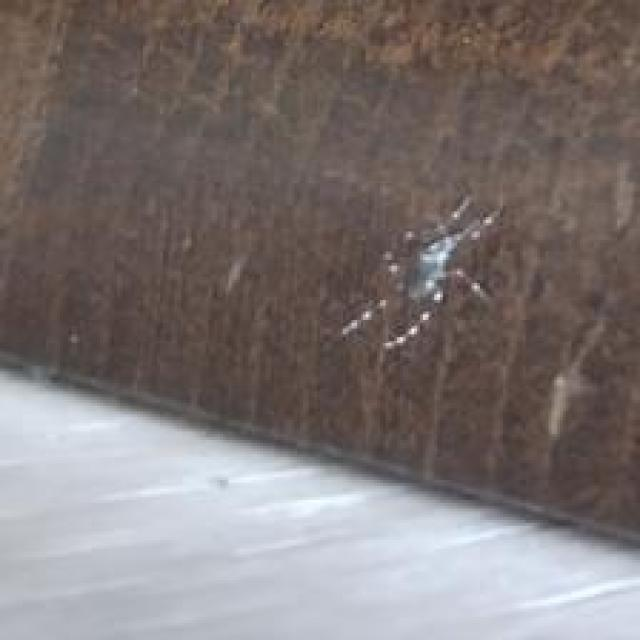Aedes albopictus: (337, 190, 506, 361)
